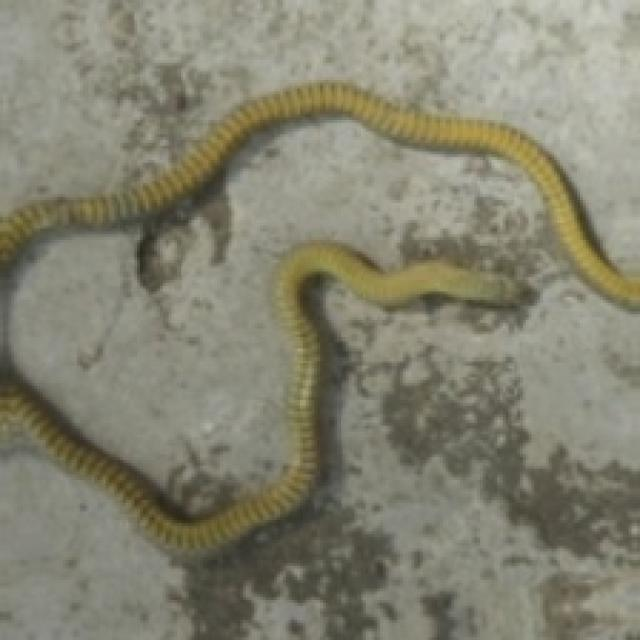gervais worm snake: (0, 240, 531, 549), (0, 83, 637, 309)
